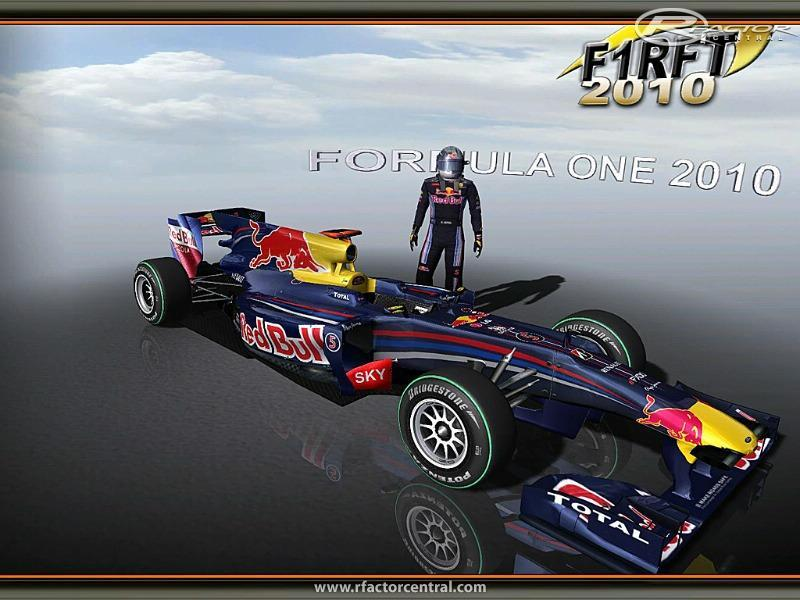f1: (111, 189, 773, 561)
